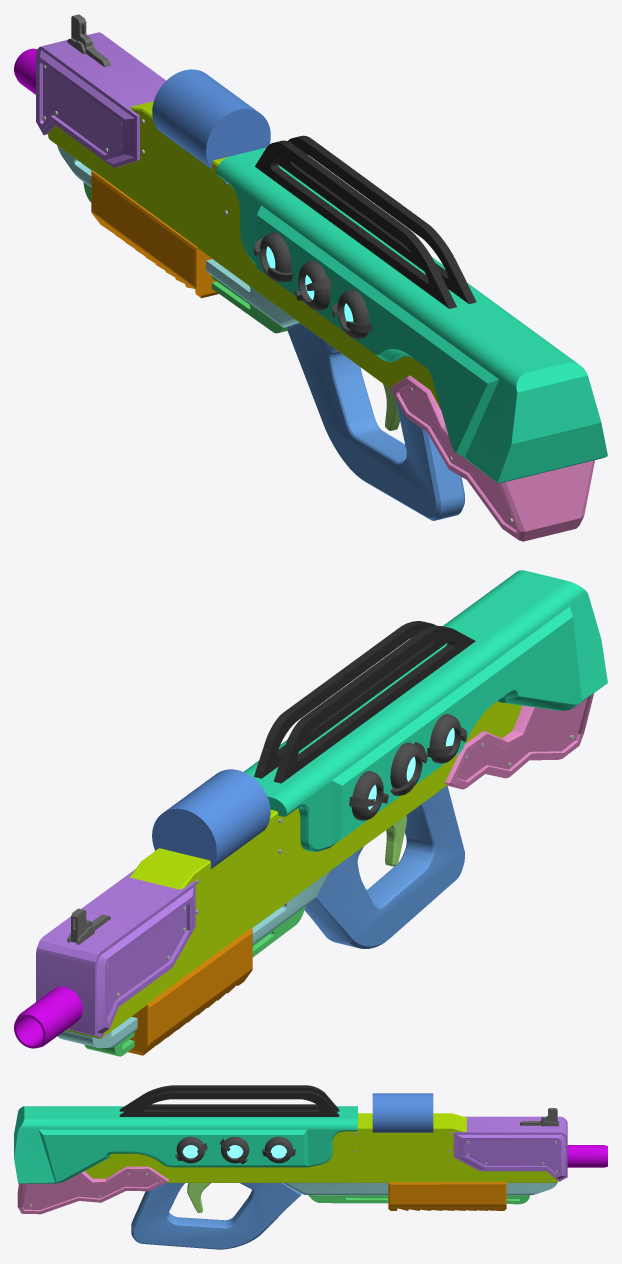
File: stinger_shotgun_002.fbx
3 views of the same model, one above another, from view 1: azimuth 30°, elevation 25°; view 2: azimuth 150°, elevation 25°; view 3: azimuth 270°, elevation 25° (orthographic). The views are drawn at different scales.
Parts seen in each view (by area): view 1: Top_Cap, Main_Body, Cage_Grip, Top_Grip_Rail, Front_Cap, Tail_Weight, Drum, Stock.001, Ammo_Remaining.001, Bottom_Cap_002, Bottom_Cap, Sensor (+1 smaller); view 2: Top_Cap, Main_Body, Front_Cap, Top_Grip_Rail, Cage_Grip, Drum, Tail_Weight, Stock.001, Ammo_Remaining.001, Barrel, Bottom_Cap_002, Bottom_Cap (+2 smaller); view 3: Top_Cap, Main_Body, Cage_Grip, Front_Cap, Top_Grip_Rail, Tail_Weight, Stock.001, Drum, Ammo_Remaining.001, Bottom_Cap_002, Barrel, Bottom_Cap (+2 smaller).
Part boxes in pixels (box(x1,y1,x2,y2)): Top_Cap: box(216, 147, 607, 483); Main_Body: box(48, 101, 440, 409); Cage_Grip: box(287, 322, 464, 520); Top_Grip_Rail: box(255, 135, 476, 308); Front_Cap: box(36, 32, 166, 167); Tail_Weight: box(390, 375, 594, 541); Drum: box(152, 69, 270, 169); Stock.001: box(91, 170, 218, 298); Ammo_Remaining.001: box(254, 232, 371, 338); Bottom_Cap_002: box(57, 145, 299, 327); Bottom_Cap: box(83, 182, 287, 333); Sensor: box(67, 14, 110, 67); Top_Cap: box(244, 570, 607, 851); Main_Body: box(65, 701, 522, 1038); Front_Cap: box(36, 869, 195, 1037); Top_Grip_Rail: box(254, 621, 475, 783); Cage_Grip: box(304, 785, 464, 948); Drum: box(152, 769, 270, 868); Tail_Weight: box(445, 693, 593, 789); Stock.001: box(128, 928, 252, 1055); Ammo_Remaining.001: box(349, 713, 466, 820); Barrel: box(14, 986, 82, 1048); Bottom_Cap_002: box(57, 871, 330, 1048); Bottom_Cap: box(84, 906, 305, 1056); Top_Cap: box(14, 1106, 357, 1183); Main_Body: box(85, 1113, 557, 1182); Cage_Grip: box(131, 1183, 301, 1249); Front_Cap: box(453, 1116, 567, 1181); Top_Grip_Rail: box(119, 1085, 339, 1116); Tail_Weight: box(17, 1166, 168, 1214); Stock.001: box(388, 1182, 506, 1210); Drum: box(372, 1093, 433, 1132); Ammo_Remaining.001: box(175, 1136, 295, 1164); Bottom_Cap_002: box(283, 1182, 557, 1195); Barrel: box(567, 1145, 607, 1167); Bottom_Cap: box(308, 1195, 529, 1204).
Size of what is drawn, in the model's own units: 106 by 225 by 771.
